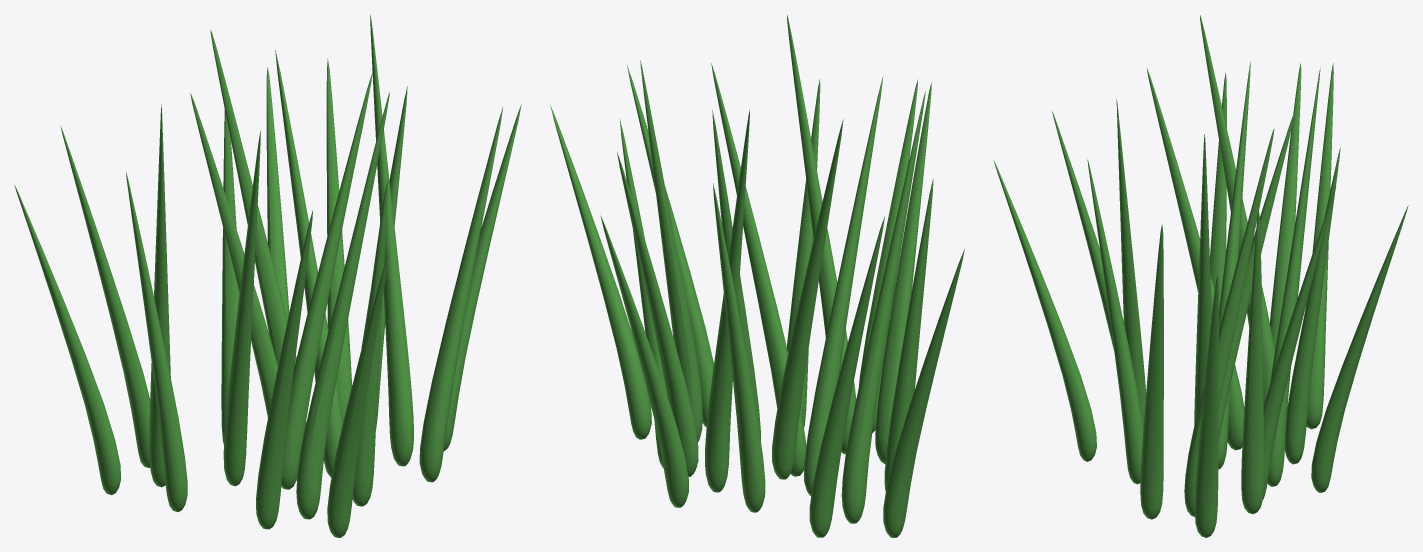
The model's file is Grass 3.fbx.
The picture shows the model from 3 angles, left to right: view 1: azimuth 30°, elevation 25°; view 2: azimuth 150°, elevation 25°; view 3: azimuth 270°, elevation 25°; orthographic projection. The views are drawn at different scales.
Visible parts, largest first — view 1: Cube, Cube_1_3, Cube_8, Cube_1_8, Cube_1_7, Cube_2_5, Cube_5, Cube_6, Cube_4, Cube_7, Cube_2_3, Cube_1_6 (+3 smaller); view 2: Cube, Cube_7, Cube_6, Cube_8, Cube_5, Cube_1_6, Cube_1_7, Cube_2_3, Cube_2_5, Cube_1_5, Cube_2_4, Cube_1_8 (+3 smaller); view 3: Cube, Cube_1_4, Cube_1_3, Cube_1_6, Cube_2_3, Cube_2_4, Cube_5, Cube_1_7, Cube_1_5, Cube_8, Cube_2_5, Cube_7 (+3 smaller).
Boxes of the visible parts, <box> form: Cube: <box>256,14,413,537</box>; Cube_1_3: <box>419,106,503,482</box>; Cube_8: <box>223,130,260,486</box>; Cube_1_8: <box>126,172,187,512</box>; Cube_1_7: <box>60,126,150,467</box>; Cube_2_5: <box>14,185,120,494</box>; Cube_5: <box>210,30,306,428</box>; Cube_6: <box>190,93,278,416</box>; Cube_4: <box>275,50,342,477</box>; Cube_7: <box>149,104,170,487</box>; Cube_2_3: <box>444,104,521,450</box>; Cube_1_6: <box>221,109,239,444</box>; Cube: <box>640,15,931,476</box>; Cube_7: <box>841,91,925,523</box>; Cube_6: <box>772,119,843,479</box>; Cube_8: <box>804,75,883,496</box>; Cube_5: <box>705,110,749,492</box>; Cube_1_6: <box>713,183,765,512</box>; Cube_1_7: <box>809,216,884,537</box>; Cube_2_3: <box>550,105,651,439</box>; Cube_2_5: <box>883,249,964,537</box>; Cube_1_5: <box>617,152,698,476</box>; Cube_2_4: <box>600,216,688,507</box>; Cube_1_8: <box>884,178,933,491</box>; Cube: <box>993,99,1274,516</box>; Cube_1_4: <box>1241,209,1264,514</box>; Cube_1_3: <box>1140,224,1163,519</box>; Cube_1_6: <box>1285,147,1340,464</box>; Cube_2_3: <box>1194,275,1218,537</box>; Cube_2_4: <box>1311,205,1408,492</box>; Cube_5: <box>1267,66,1320,486</box>; Cube_1_7: <box>1306,63,1333,429</box>; Cube_1_5: <box>1263,186,1336,499</box>; Cube_8: <box>1146,67,1244,450</box>; Cube_2_5: <box>1270,62,1301,349</box>; Cube_7: <box>1200,15,1274,404</box>.
Size of the model in its own units: 96.39 by 83.36 by 79.68.
